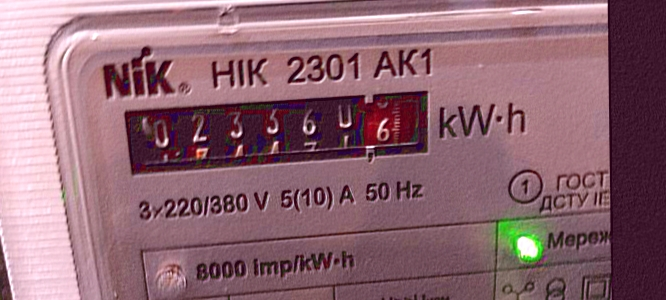0: (150, 116, 172, 150), (333, 99, 355, 131)
2: (189, 110, 209, 144)
3: (263, 102, 282, 136), (225, 109, 244, 140)
6: (298, 104, 319, 137), (373, 112, 394, 145)
screen: (108, 81, 447, 181)
